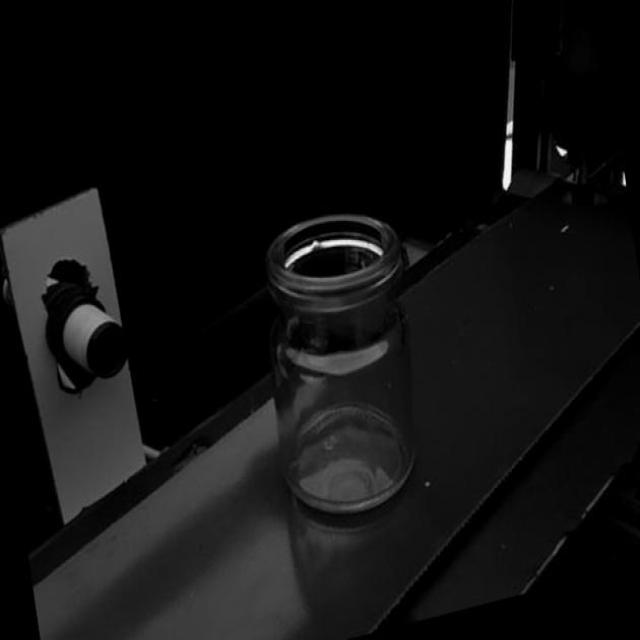defect: (307, 235, 325, 254)
glass: (245, 195, 442, 537)
